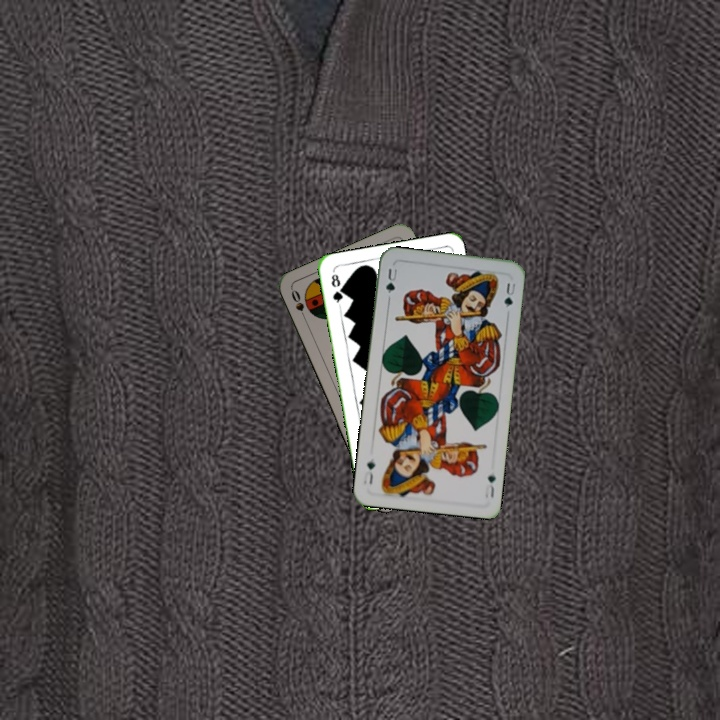G8: (327, 270, 345, 308)
GU: (382, 265, 400, 296), (481, 471, 498, 501)
SO: (287, 285, 310, 324)
